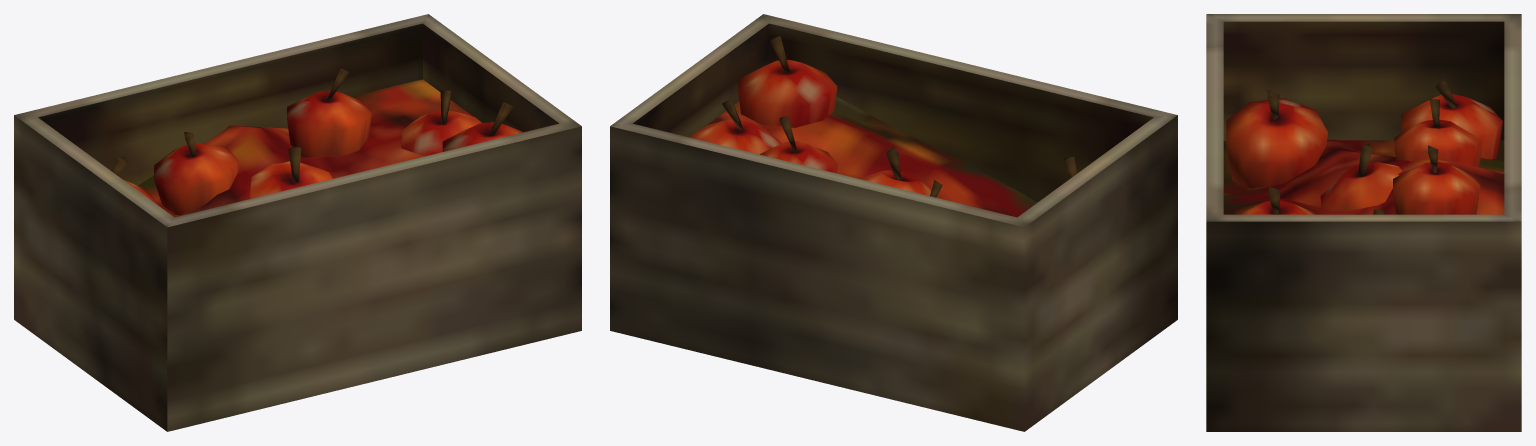
File: b_general_obj_22.fbx
3 renders of one model, left to right at view 1: azimuth 30°, elevation 25°; view 2: azimuth 150°, elevation 25°; view 3: azimuth 270°, elevation 25°, orthographic. The views are drawn at different scales.
Parts seen in each view (by area): view 1: Sphere01; view 2: Sphere01; view 3: Sphere01.
Part boxes in pixels (bbox=[...]): Sphere01: bbox=[14, 14, 581, 431]; Sphere01: bbox=[610, 14, 1177, 431]; Sphere01: bbox=[1206, 14, 1521, 431].
Size of the model in its own units: 1.06 by 0.5309 by 0.6822.
